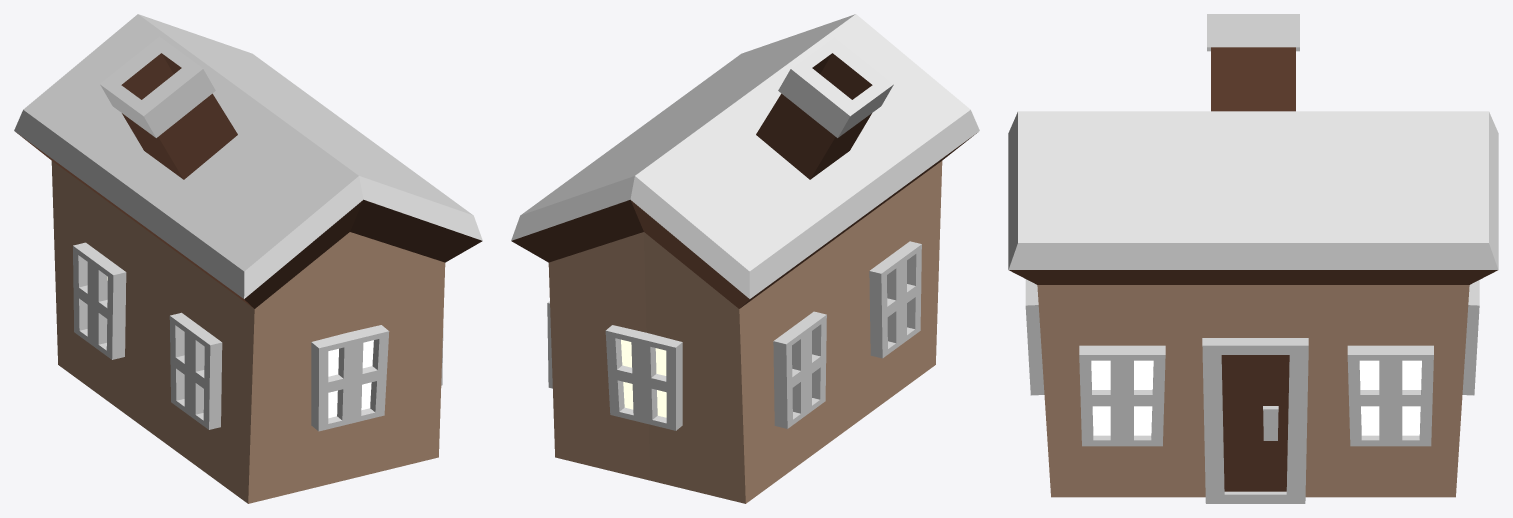
Rendered from house2.glb.
3 views of the same model, side by side, from view 1: azimuth 30°, elevation 25°; view 2: azimuth 150°, elevation 25°; view 3: azimuth 270°, elevation 25° (orthographic). The views are drawn at different scales.
Visible parts, largest first — view 1: Cube; view 2: Cube; view 3: Cube.
Boxes of the visible parts, <box> form: Cube: <box>14,14,482,503</box>; Cube: <box>511,14,979,503</box>; Cube: <box>1008,14,1498,503</box>.
Size of the model in its own units: 2.58 by 3.76 by 4.18.
